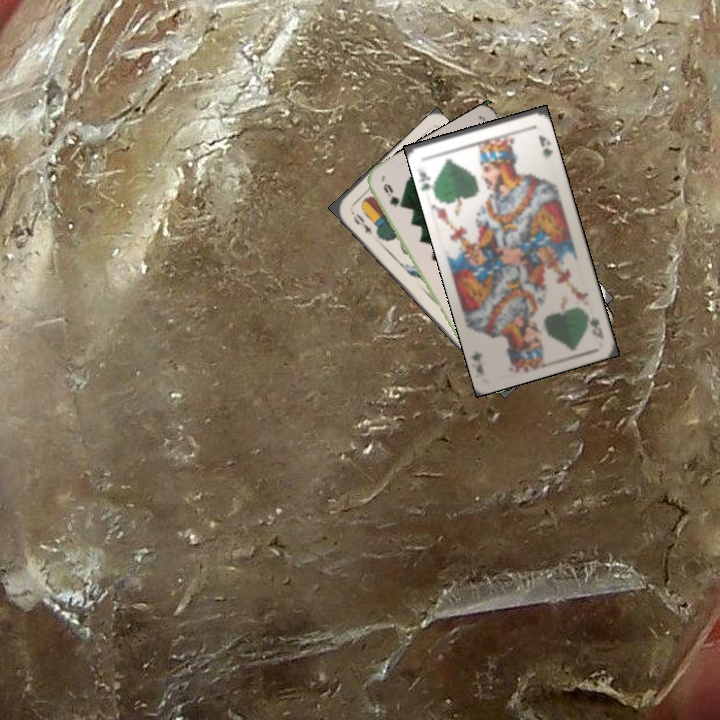EO: (347, 207, 375, 237)
G9: (379, 179, 405, 210)
GK: (415, 165, 438, 196), (585, 312, 606, 342)
